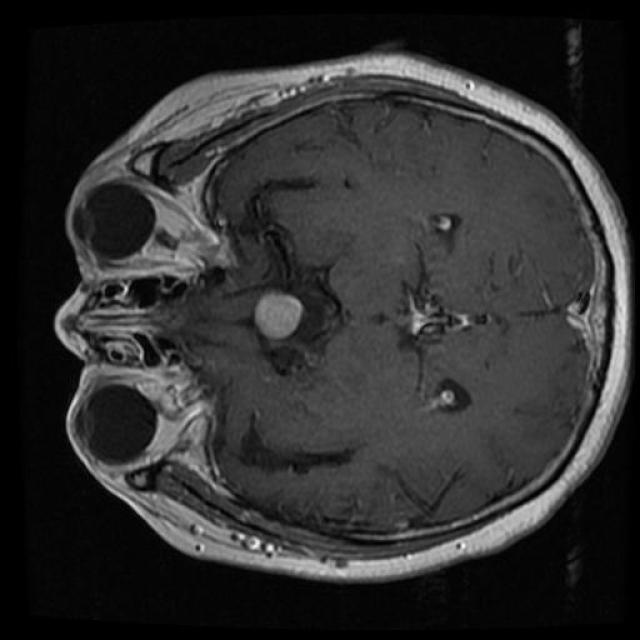Pituitary: (223, 248, 346, 375)
